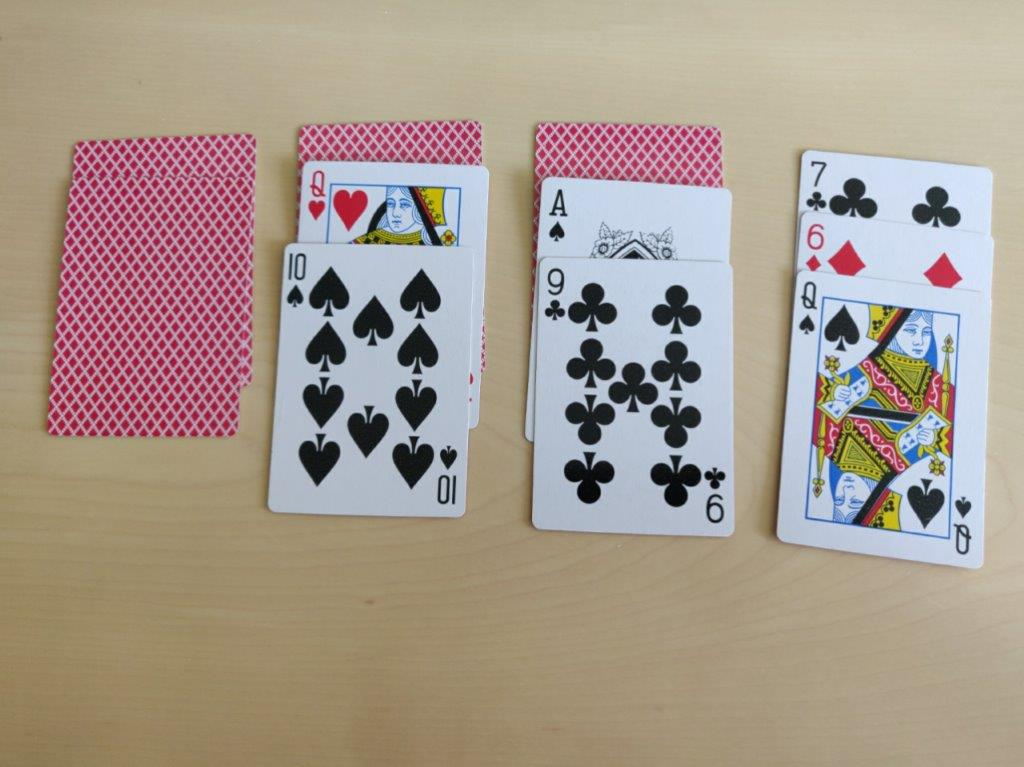10S: (284, 249, 308, 312)
6D: (804, 218, 827, 274)
7C: (805, 157, 829, 212)
9C: (542, 266, 570, 324)
AS: (543, 186, 575, 245)
BACK: (58, 172, 249, 436), (539, 119, 729, 189), (285, 115, 489, 163), (69, 130, 257, 174)
QH: (302, 166, 332, 224)
QS: (797, 279, 821, 340)
